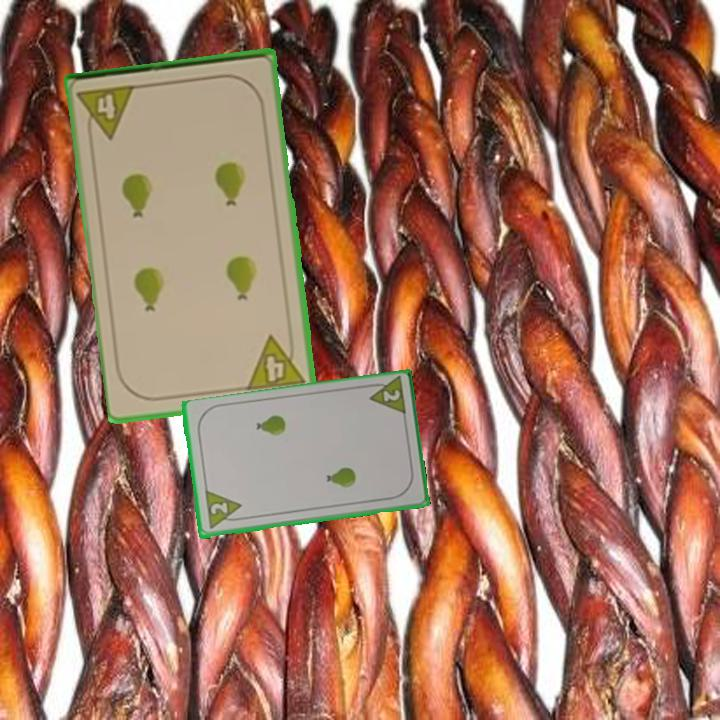2p: (363, 375, 409, 419), (207, 499, 230, 518)
4p: (245, 331, 310, 394), (74, 82, 139, 145)
